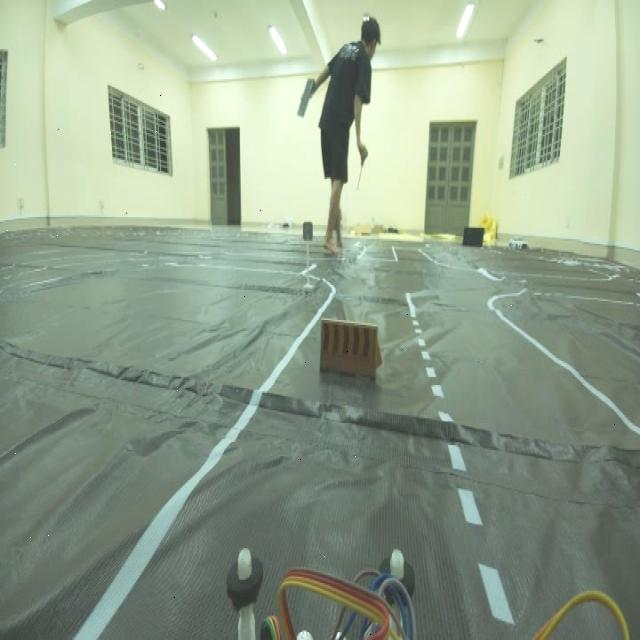roadblock: (309, 303, 391, 413)
